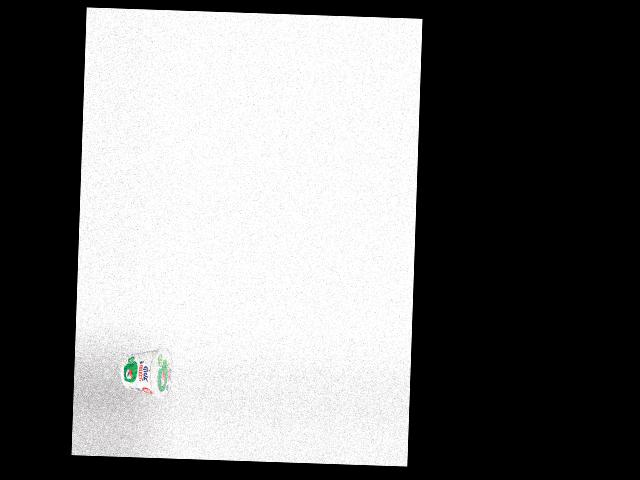cotage: (119, 344, 174, 400)
